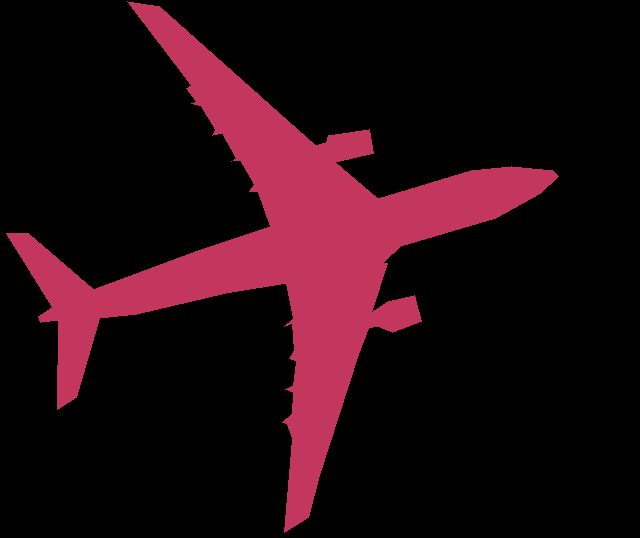Airplane: (6, 1, 558, 532)
